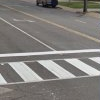crosswalk: (0, 56, 99, 84)
